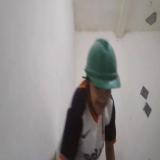Helmet: (84, 35, 122, 92)
